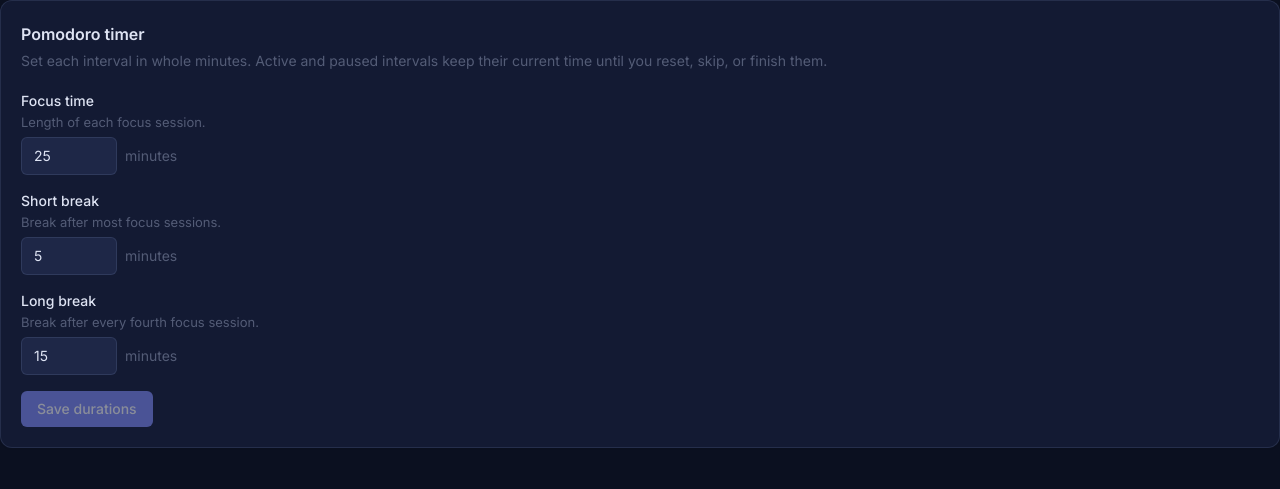
Test: PomodoroSettings › shows an inline boundary error and prevents saving invalid edits
Replace the text in the number field labelled "Focus time" with "181" at (69, 156), box [21,137,117,175]
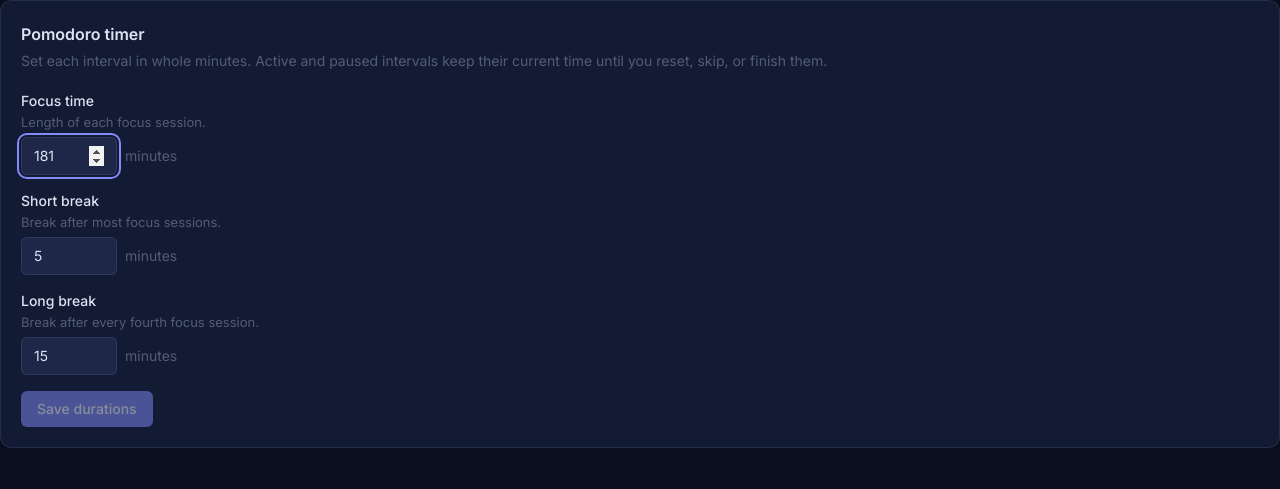
Press Tab
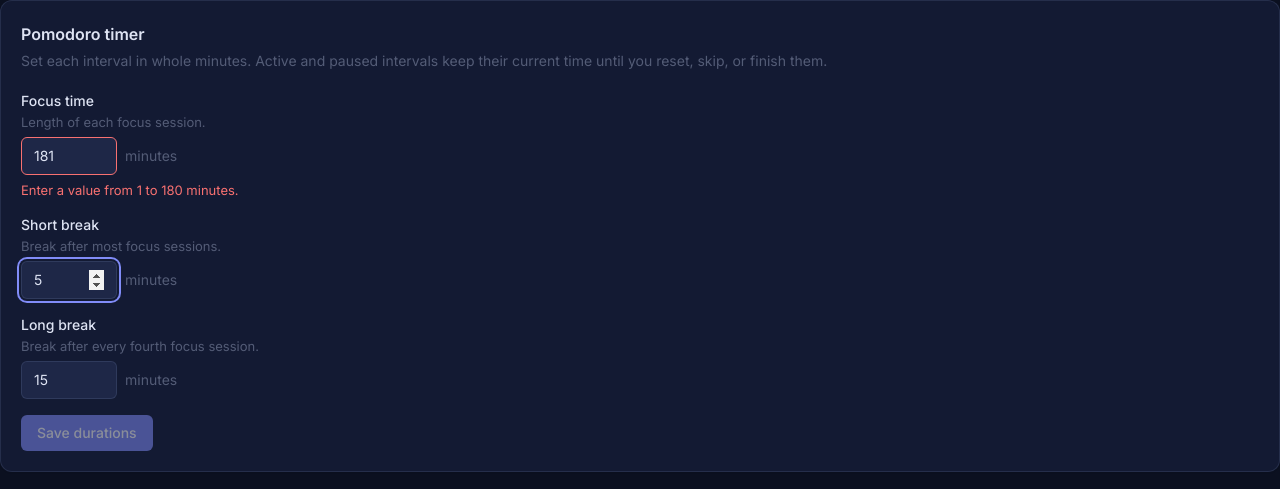
Expected: the button "Save durations" is disabled, [21,415,153,451]
Now the message shows "1 to 180 minutes", box [21,182,239,198]
